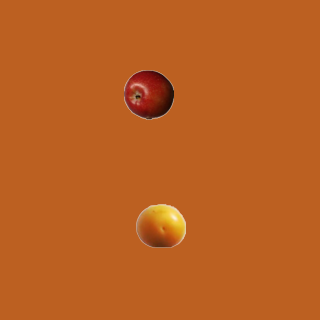Apple Braeburn: (123, 69, 173, 119)
Cherry Wax Yellow: (135, 200, 185, 250)
